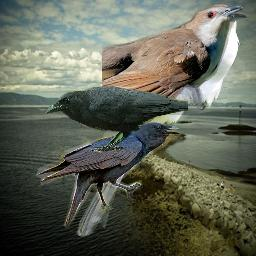Crow: (36, 122, 181, 228), (45, 86, 189, 153)
Cuckoo: (75, 3, 247, 238), (102, 6, 243, 115)
